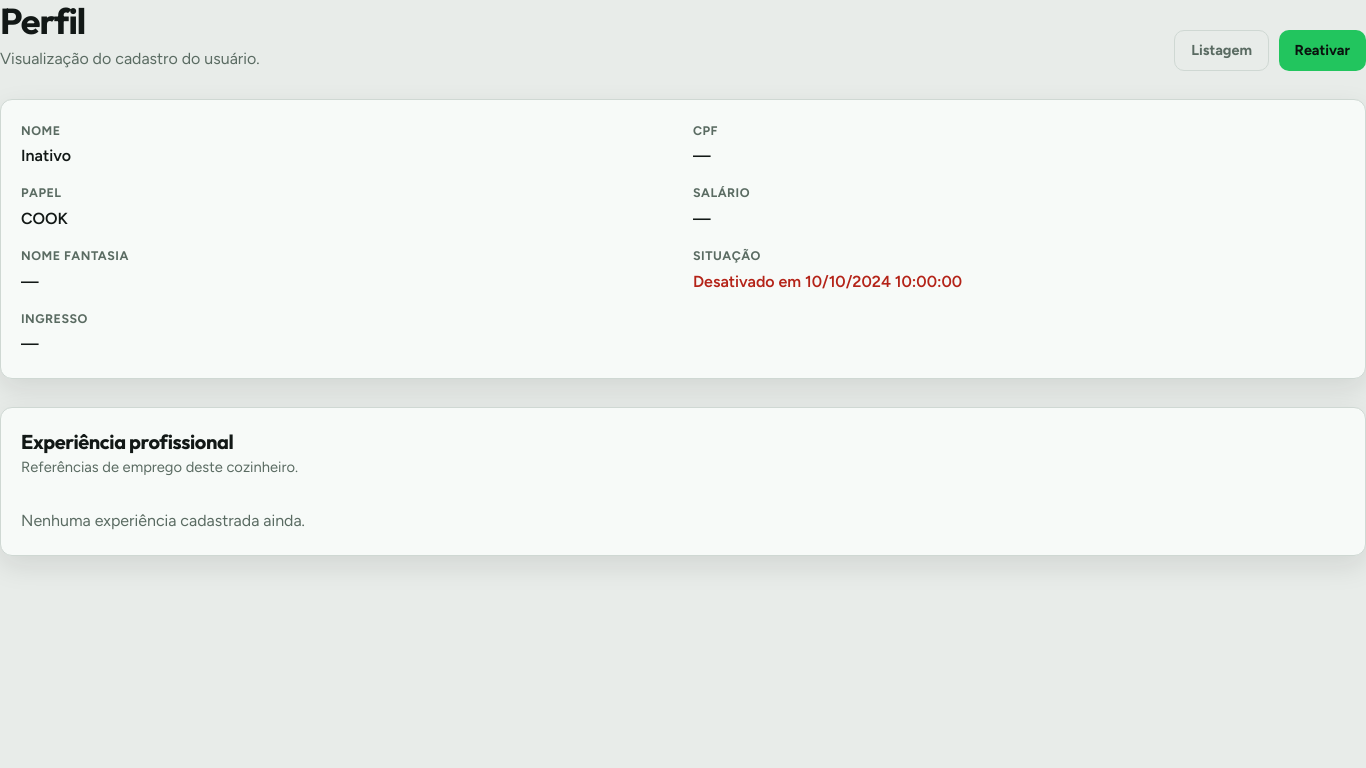
Test: reativar usuário (FN-UI-ADMIN-USER-ACCESS) › AC-03: confirmar Reativar chama PUT /users/reactivate/{id} e UI fica ativa
Click the button "Reativar".
click(1322, 50)  # box [1279,30,1365,71]
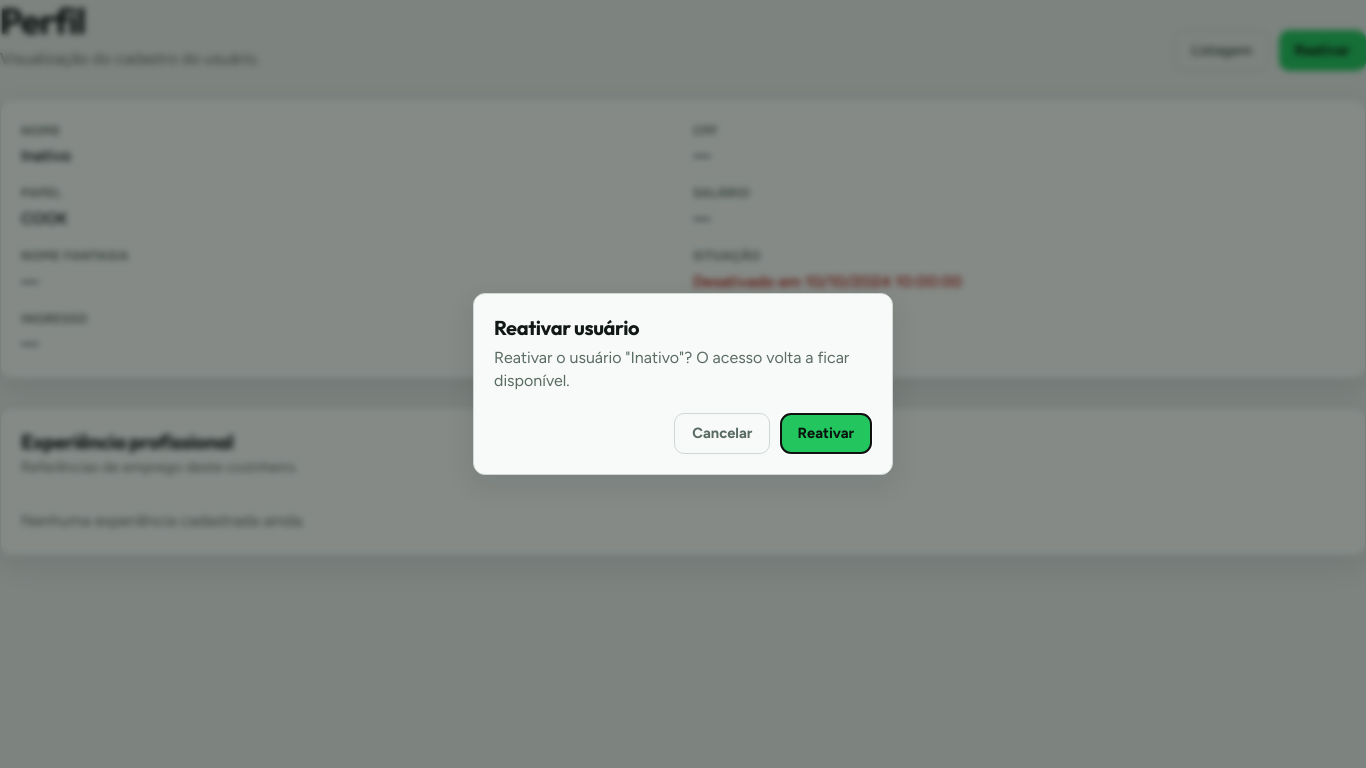
Click the button "Reativar".
click(826, 433)  # box [780,413,872,454]
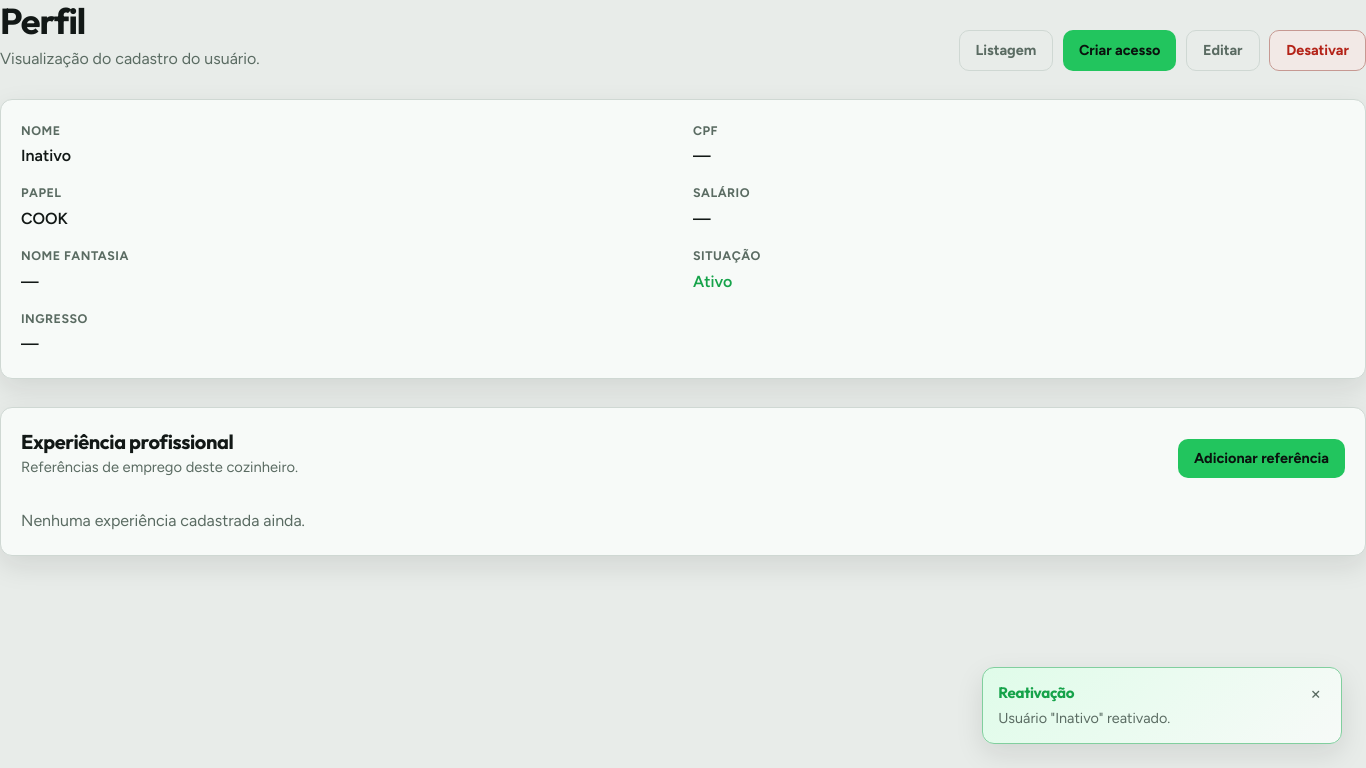
Expected: the button "Desativar" is shown, [1269,30,1365,71]
Expected: the button "Reativar" is gone
